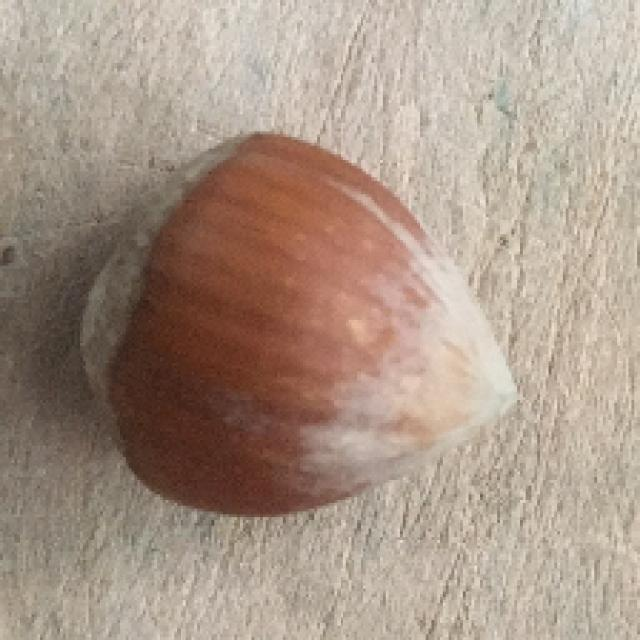qualityHazelnut: (84, 131, 523, 518)
